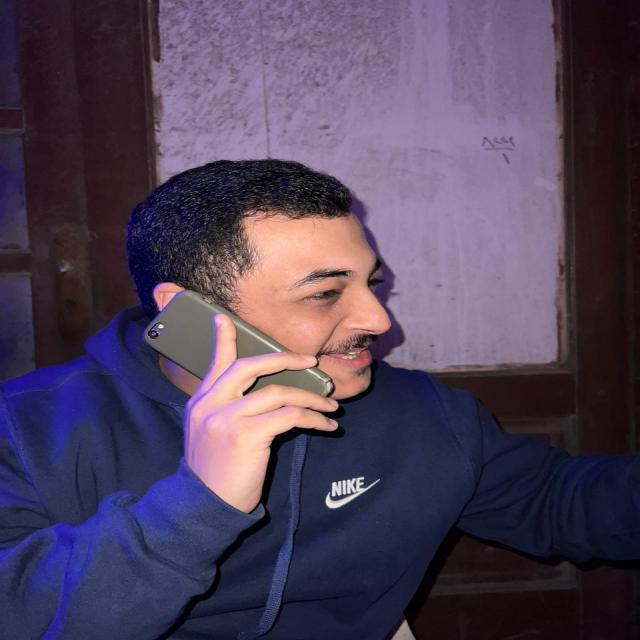phone: (142, 287, 334, 425)
